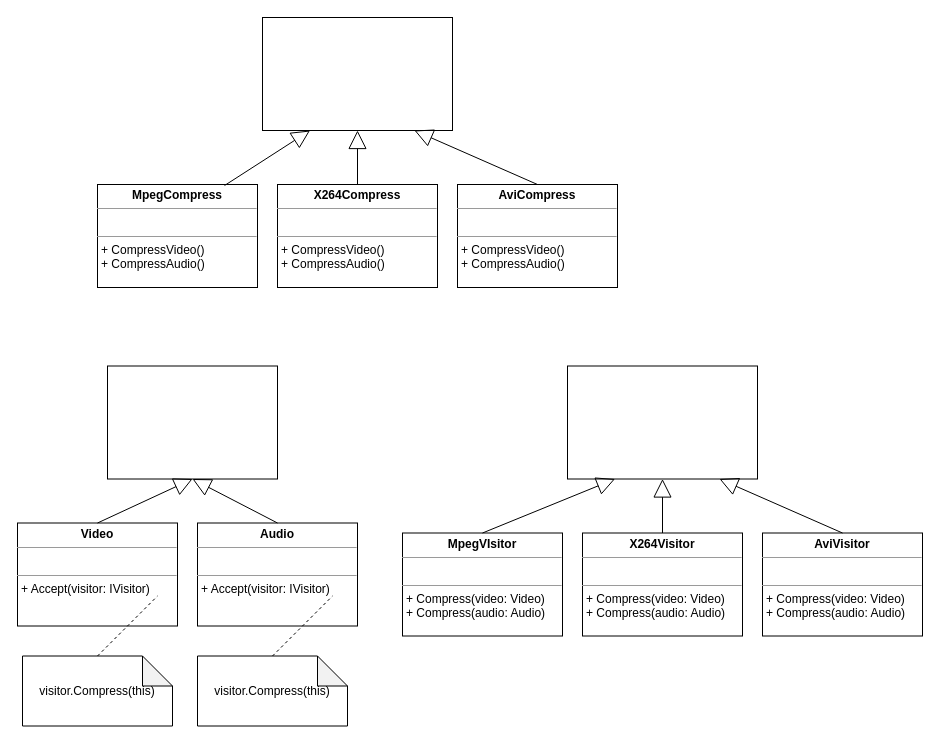
The diagram is 940 pixels wide and 744 high, and some of its shapes have lost their labels. Each missing label, with the centre of its shape:
"<<interface>> IMedia + Accept(visitor: IVisitor)" goes at point 192,422.
"<<interface>> IMediaCompress + CompressVideo() + CompressAudio()" goes at point 357,73.
"<<interface>> IVisitor + Compress(video: Video) + Compress(audio: Audio)" goes at point 662,422.
